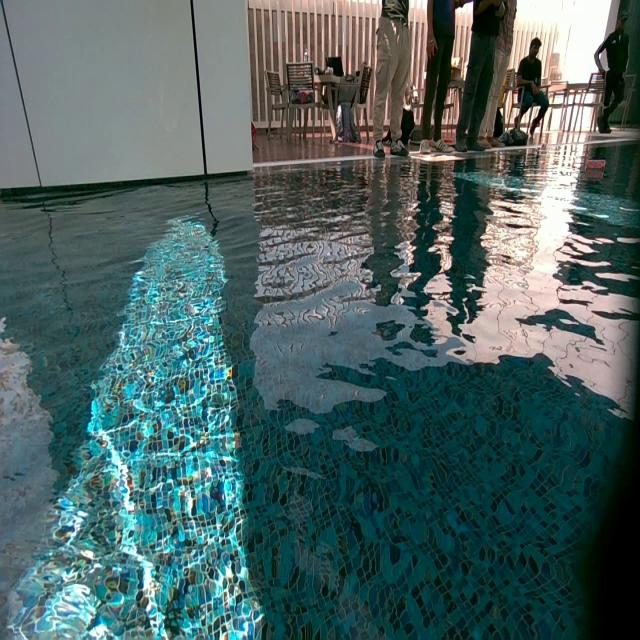Cans: (584, 156, 606, 172)
